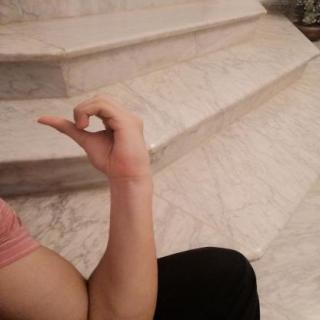WAW: (29, 87, 158, 183)
